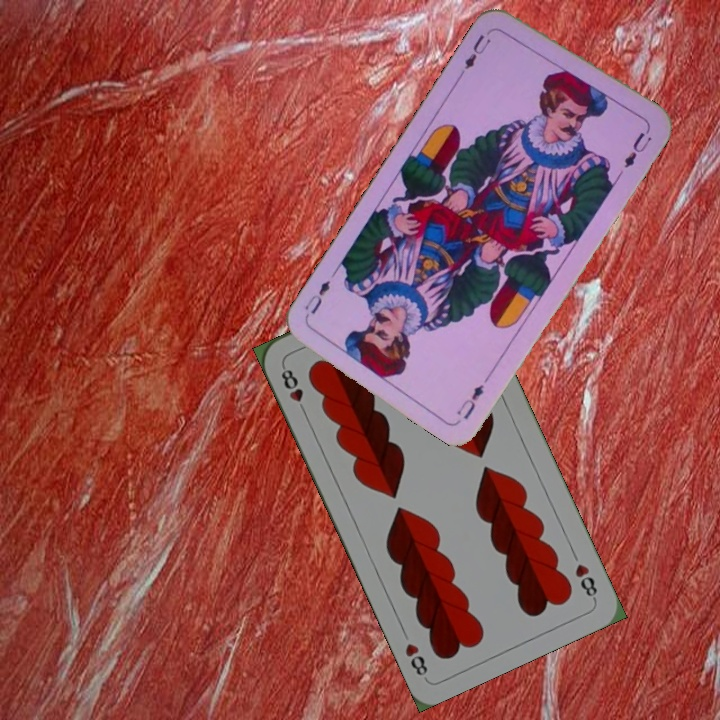EU: (456, 27, 495, 78), (452, 380, 487, 422)
H8: (277, 361, 309, 417), (571, 559, 600, 603)
